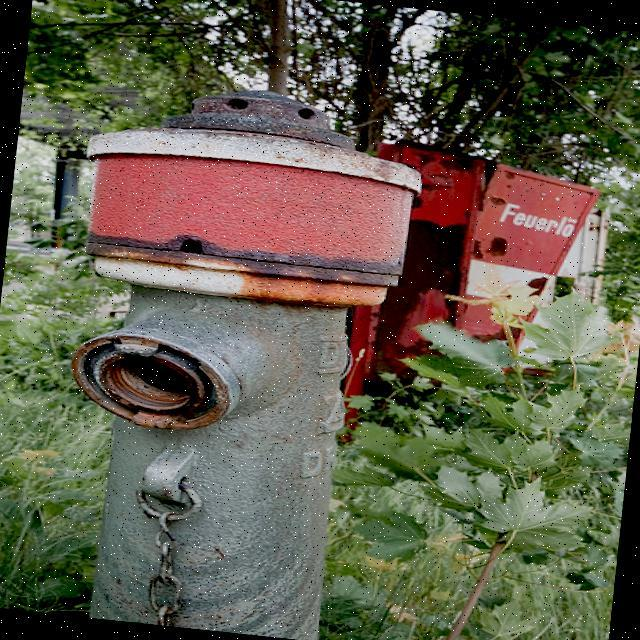fire_hydrant: (33, 80, 420, 636)
